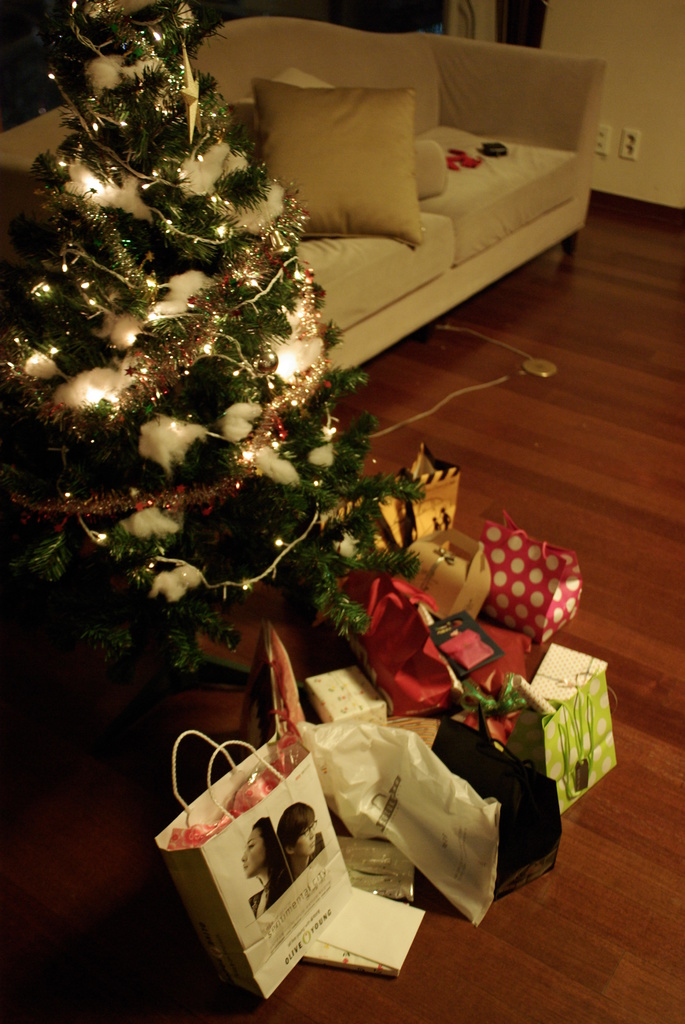Couch: (0, 12, 611, 374)
